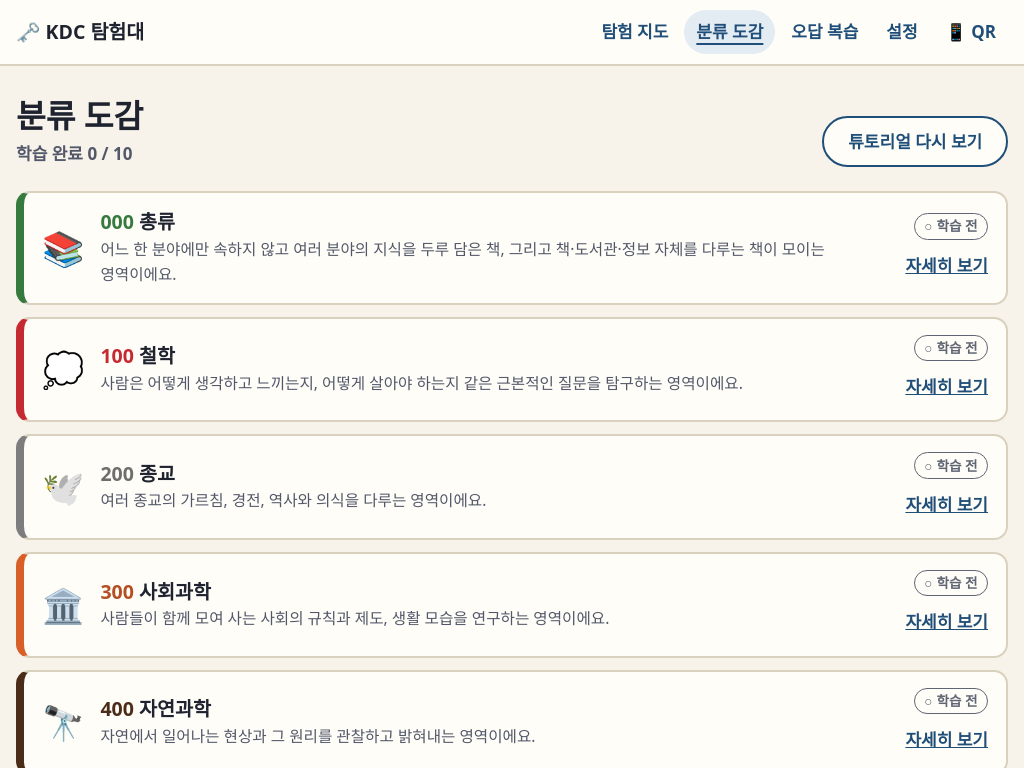
Test: 탐험 지도 › 상단 메뉴의 탐험 지도는 탐험 단계를 고르는 화면이다
This screenshot has width=1024, height=768.
What coordinates should you click on to do the following:
click the link "탐험 지도"
I would click on:
 (635, 32)
Its box is [601,20,668,43].
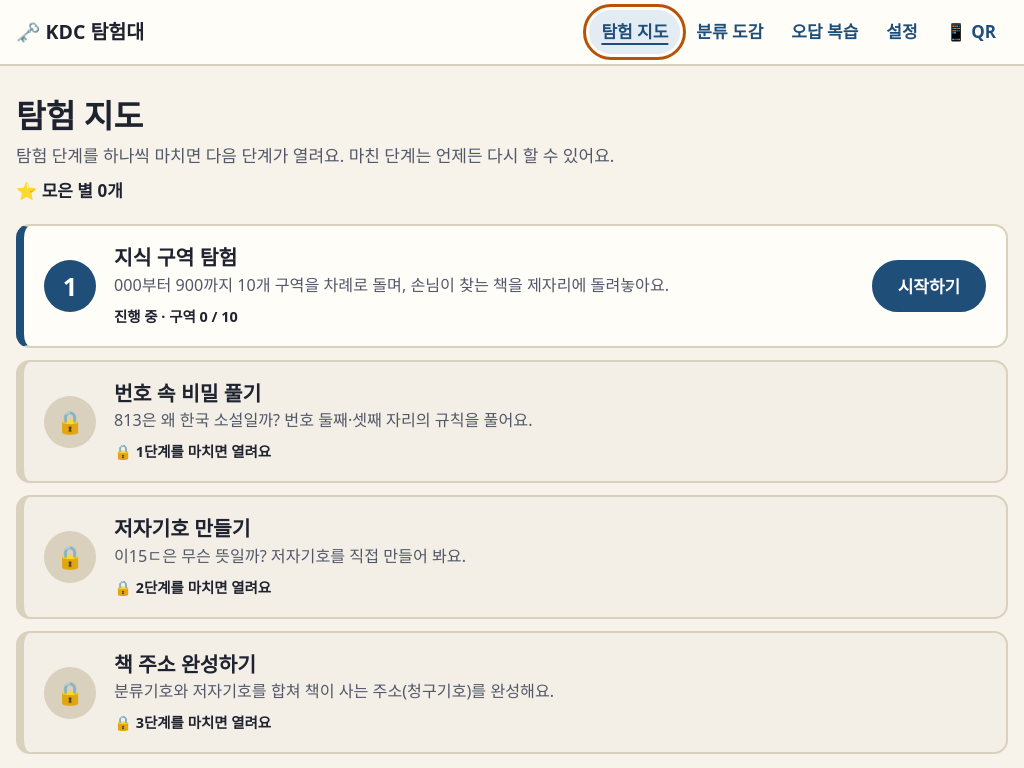
Check: the heading "탐험 지도" is shown, box [16,93,143,137]
Check: the heading "지식 구역 탐험" is shown, box [114,243,237,271]
